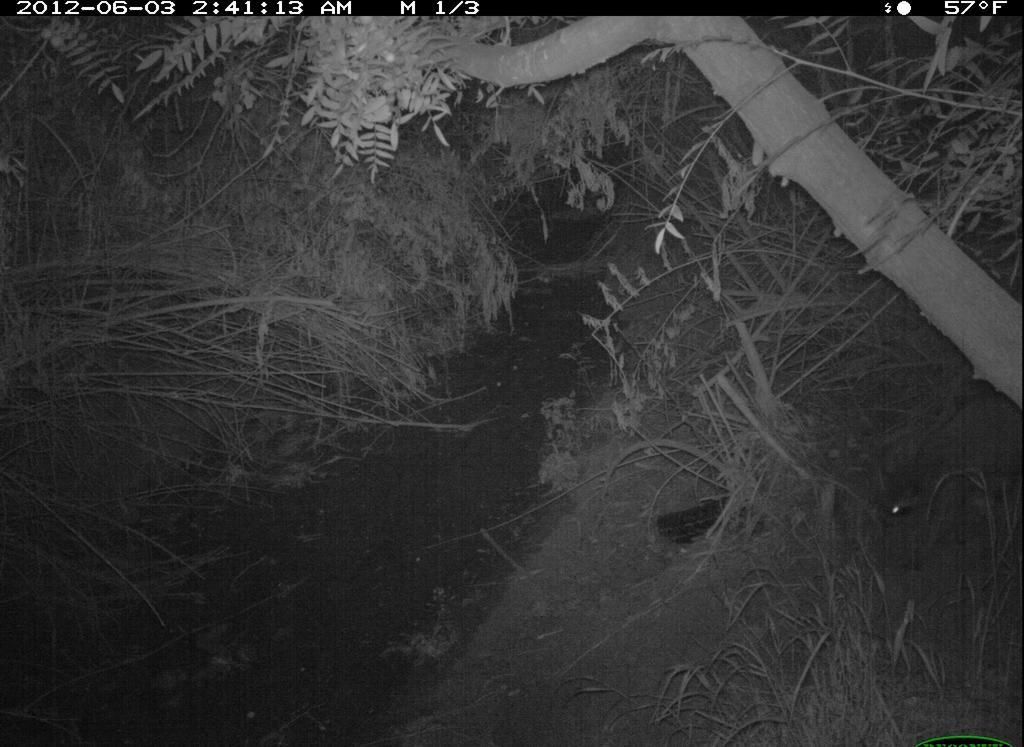raccoon: (866, 391, 1023, 585)
